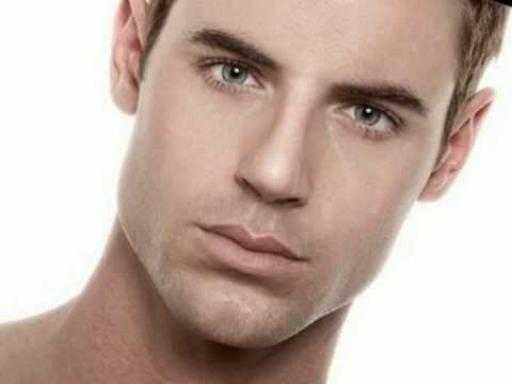left_eye: (331, 100, 406, 136)
left_lip_corner: (285, 244, 314, 272)
right_eye: (198, 60, 267, 94)
right_lip_corner: (189, 220, 220, 241)
